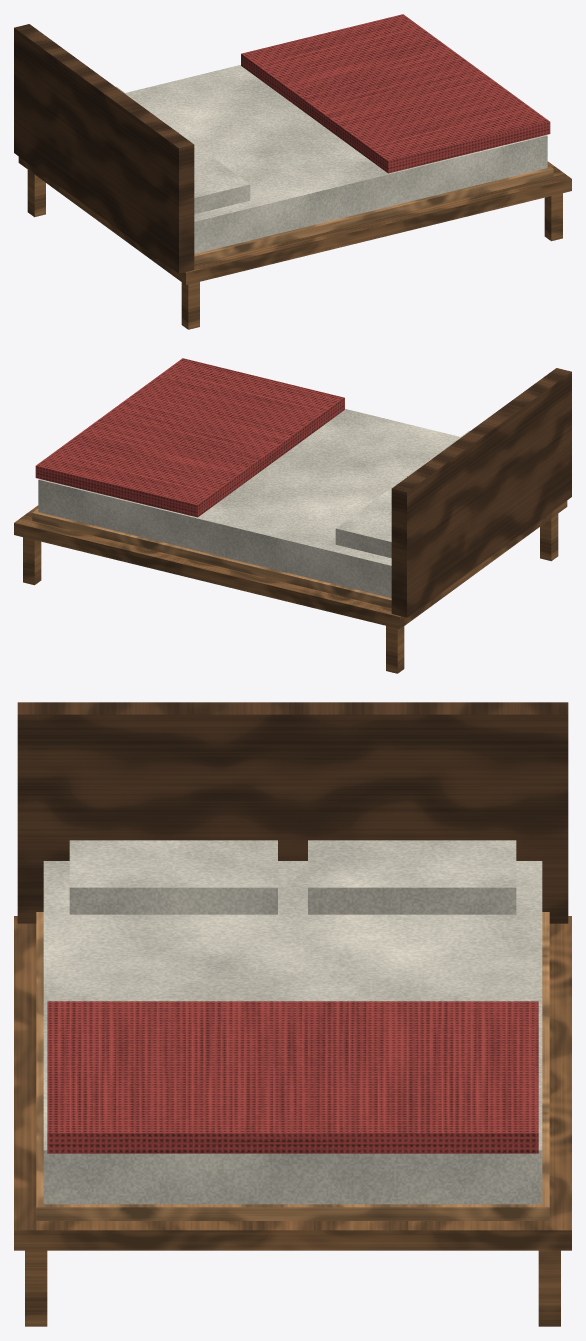
The model's file is double_bed.fbx.
3 renders of one model, top to bottom at view 1: azimuth 30°, elevation 25°; view 2: azimuth 150°, elevation 25°; view 3: azimuth 270°, elevation 25°, orthographic. The views are drawn at different scales.
Parts seen in each view (by area): view 1: double_bed; view 2: double_bed; view 3: double_bed.
Part boxes in pixels (<box>): double_bed: <box>14,14,571,329</box>; double_bed: <box>14,358,571,673</box>; double_bed: <box>14,702,571,1326</box>.
Bounding box in the file's own units: 203 × 92 × 150.
